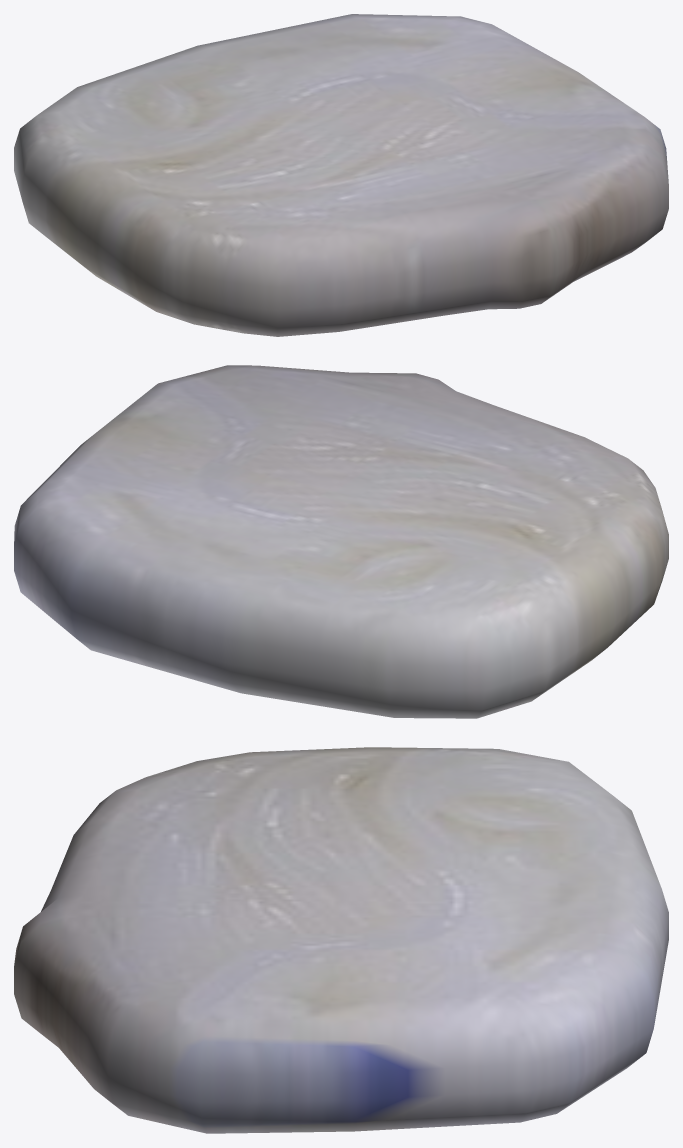
File: bun_la_2.fbx
The picture shows the model from 3 angles, top to bottom: view 1: azimuth 30°, elevation 25°; view 2: azimuth 150°, elevation 25°; view 3: azimuth 270°, elevation 25°; orthographic projection. The views are drawn at different scales.
Parts seen in each view (by area): view 1: bun_la.001; view 2: bun_la.001; view 3: bun_la.001.
Boxes of the visible parts, x1=… form: bun_la.001: x1=14, y1=14, x2=668, y2=336; bun_la.001: x1=14, y1=365, x2=668, y2=718; bun_la.001: x1=14, y1=747, x2=668, y2=1133.
Size of the model in its own units: 136 by 26.18 by 126.
1 material, 1 textured.
